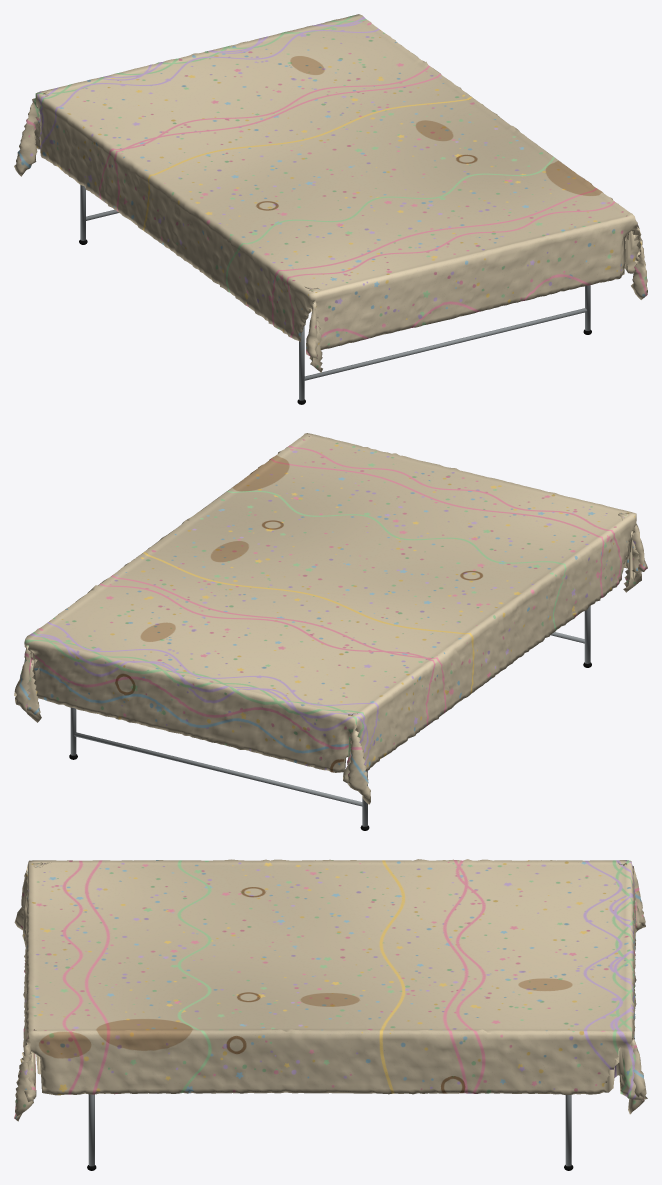
Rendered from party-table.glb.
3 views of the same model, one above another, from view 1: azimuth 30°, elevation 25°; view 2: azimuth 150°, elevation 25°; view 3: azimuth 270°, elevation 25° (orthographic). The views are drawn at different scales.
Parts seen in each view (by area): view 1: Raster, Zylinder.002; view 2: Raster, Zylinder.007; view 3: Raster, Zylinder.001, Zylinder.006.
Boxes of the visible parts, x1,y1,x2,y2 form: Raster: (14, 14, 647, 372); Zylinder.002: (304, 308, 586, 380); Raster: (14, 433, 647, 804); Zylinder.007: (74, 732, 362, 806); Raster: (14, 859, 647, 1121); Zylinder.001: (88, 1094, 94, 1166); Zylinder.006: (565, 1095, 571, 1166).
Bounding box in the file's own units: 2.29 × 0.8552 × 3.27.
Materials: 4 (1 with a texture image).
